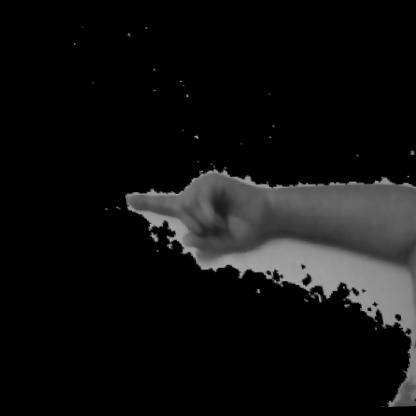one: (102, 125, 402, 288)
